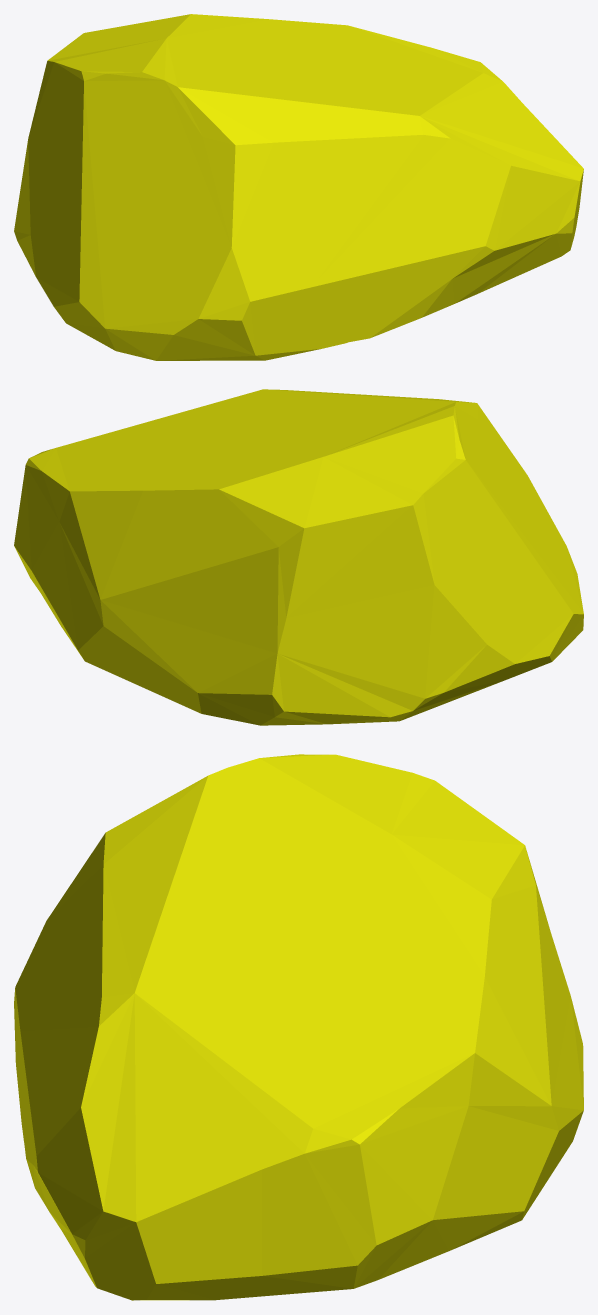
Rendered from trp_rock1.glb.
3 views of the same model, one above another, from view 1: azimuth 30°, elevation 25°; view 2: azimuth 150°, elevation 25°; view 3: azimuth 270°, elevation 25° (orthographic). The views are drawn at different scales.
Visible parts, largest first — view 1: SM_Env_Rock_01; view 2: SM_Env_Rock_01; view 3: SM_Env_Rock_01.
Boxes of the visible parts, x1,y1,x2,y2 form: SM_Env_Rock_01: [14, 14, 583, 360]; SM_Env_Rock_01: [14, 389, 583, 725]; SM_Env_Rock_01: [14, 754, 583, 1300].
Size of the model in its own units: 2.26 by 1.04 by 1.73.
1 material, 1 textured.
